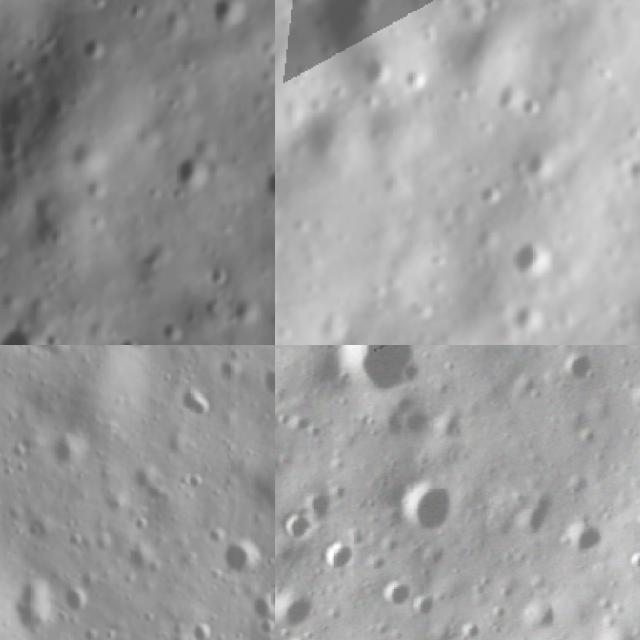crater: (293, 0, 399, 73), (326, 345, 429, 396), (392, 475, 456, 537), (498, 236, 558, 298), (372, 390, 432, 441), (514, 146, 566, 199), (45, 427, 97, 480), (500, 297, 553, 345), (512, 486, 560, 539), (351, 54, 400, 103), (275, 582, 315, 635), (559, 515, 606, 560), (203, 0, 257, 36), (174, 377, 215, 424), (514, 594, 562, 634), (0, 314, 59, 345), (223, 534, 264, 578), (511, 93, 549, 132), (556, 345, 596, 382), (394, 67, 432, 104), (469, 183, 506, 220), (376, 578, 416, 612), (300, 490, 340, 524), (60, 576, 94, 614), (319, 540, 357, 574), (275, 515, 316, 546), (275, 0, 327, 22), (81, 34, 112, 70), (259, 155, 275, 222), (204, 257, 233, 290), (592, 622, 640, 640), (255, 359, 275, 402), (408, 592, 436, 620), (116, 327, 156, 345), (186, 621, 220, 640)
